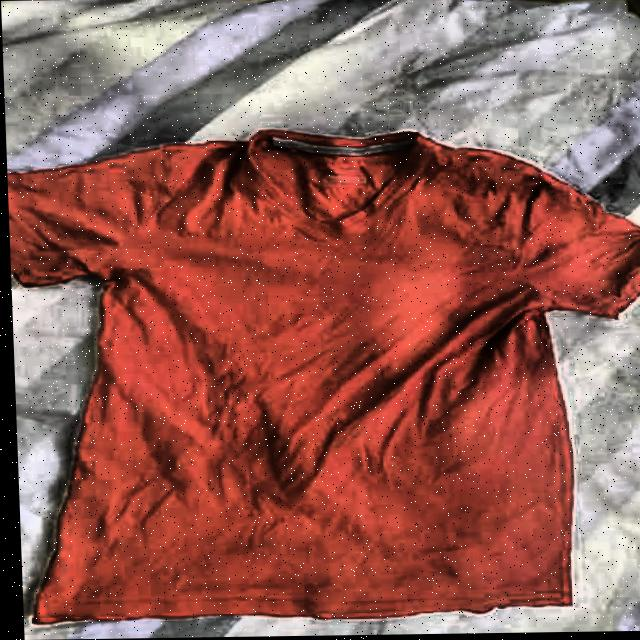clothes: (5, 121, 640, 624)
